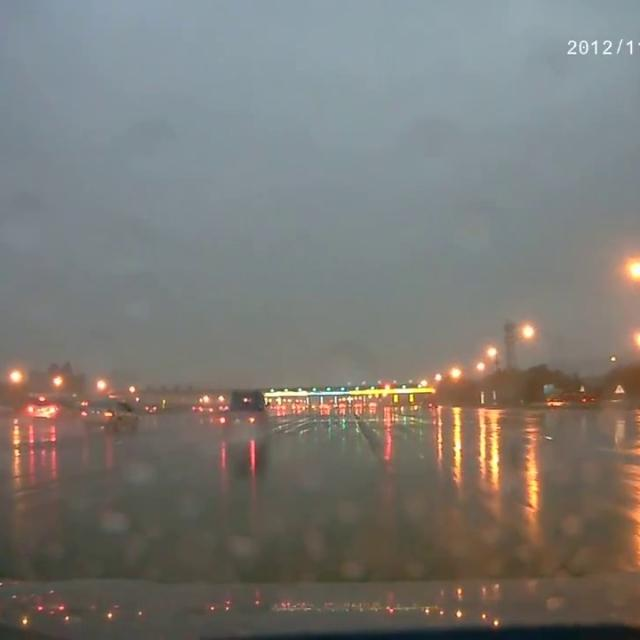Car: (81, 395, 137, 434), (20, 394, 68, 422), (192, 402, 211, 414), (146, 402, 160, 415)
